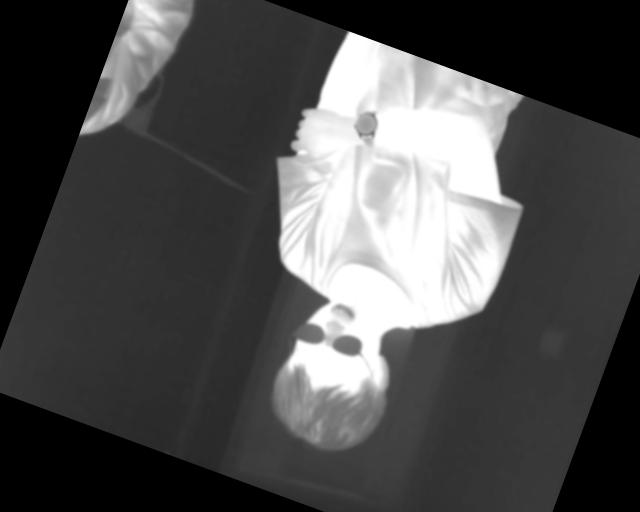face: (254, 282, 418, 467)
